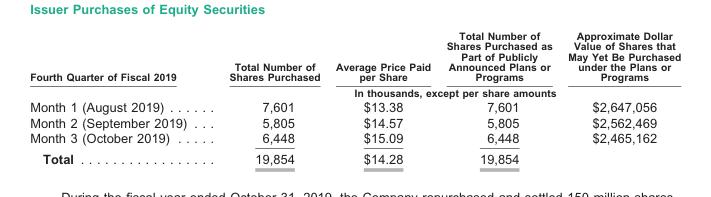table: (29, 29, 680, 165)
table column: (29, 29, 207, 165), (437, 29, 559, 165), (559, 29, 680, 165), (207, 29, 327, 165), (327, 29, 437, 165)
table column header: (29, 29, 680, 98)
table row: (29, 29, 680, 84), (29, 130, 680, 148), (29, 148, 680, 165), (29, 98, 680, 114), (29, 114, 680, 130), (29, 84, 680, 98)
table spanning cell: (29, 29, 207, 98), (207, 84, 680, 98)
